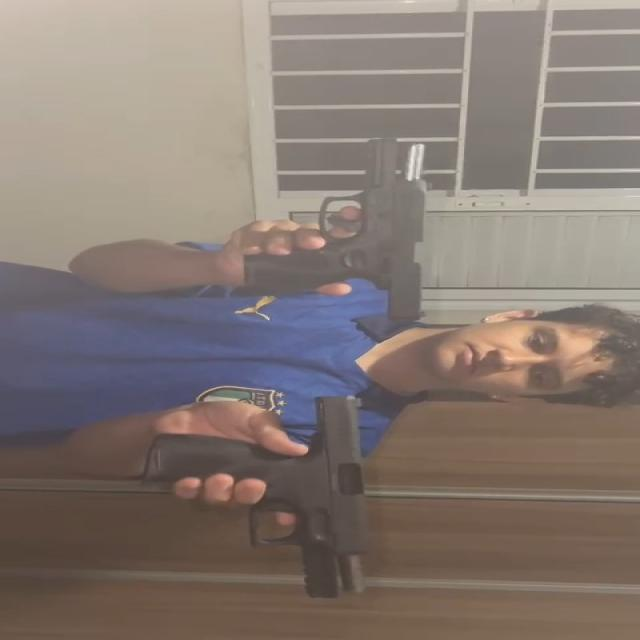gun: (244, 135, 428, 323)
